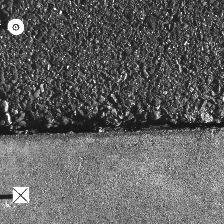circle: (6, 19, 24, 35)
crack: (1, 120, 222, 135)
square: (12, 187, 29, 203)
